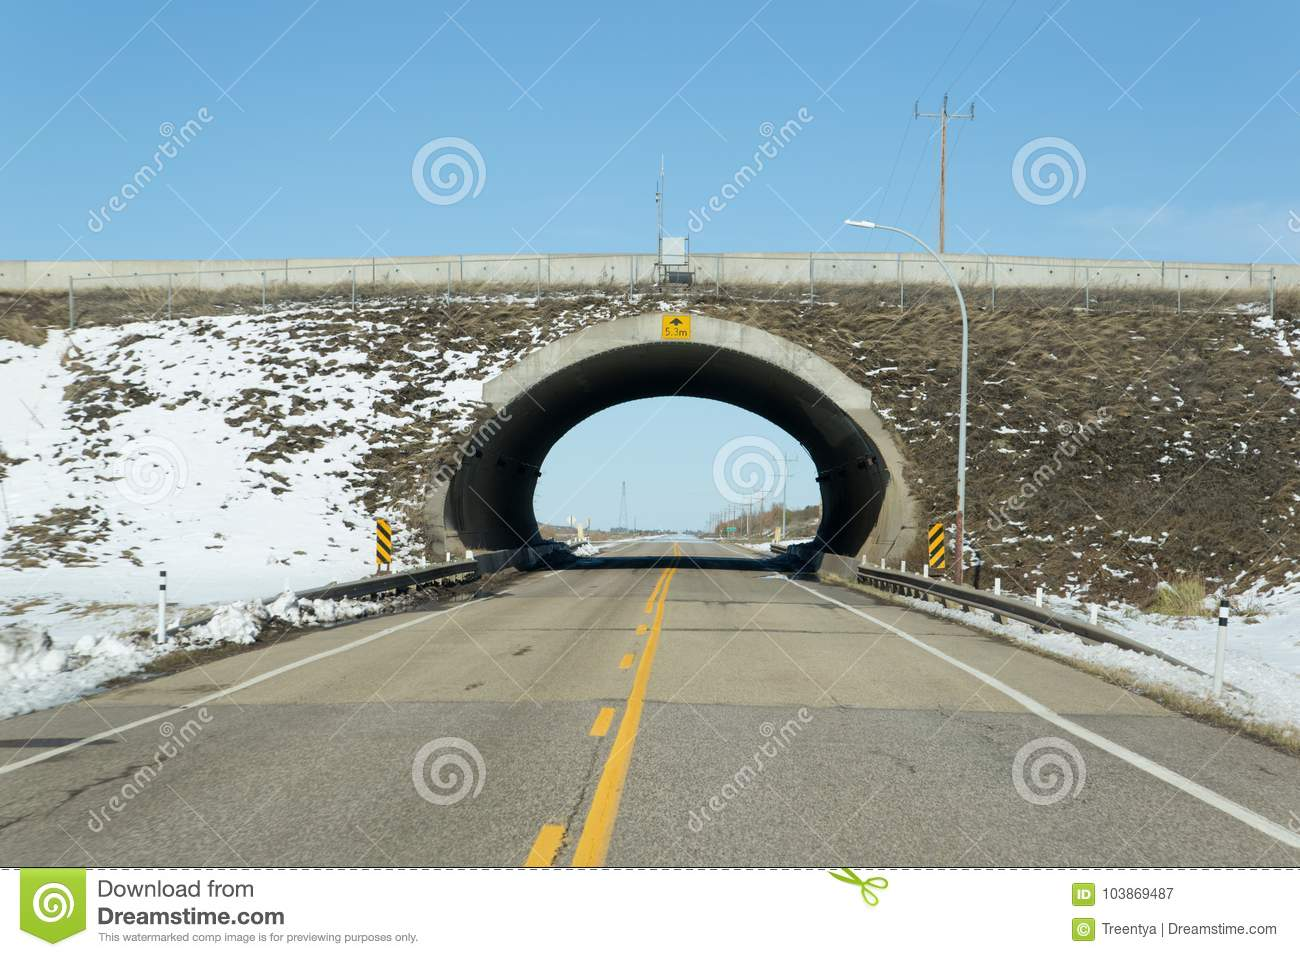bridge: (3, 250, 1300, 475)
